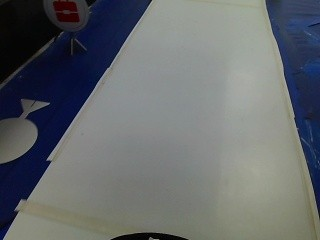company: (37, 0, 96, 33)
